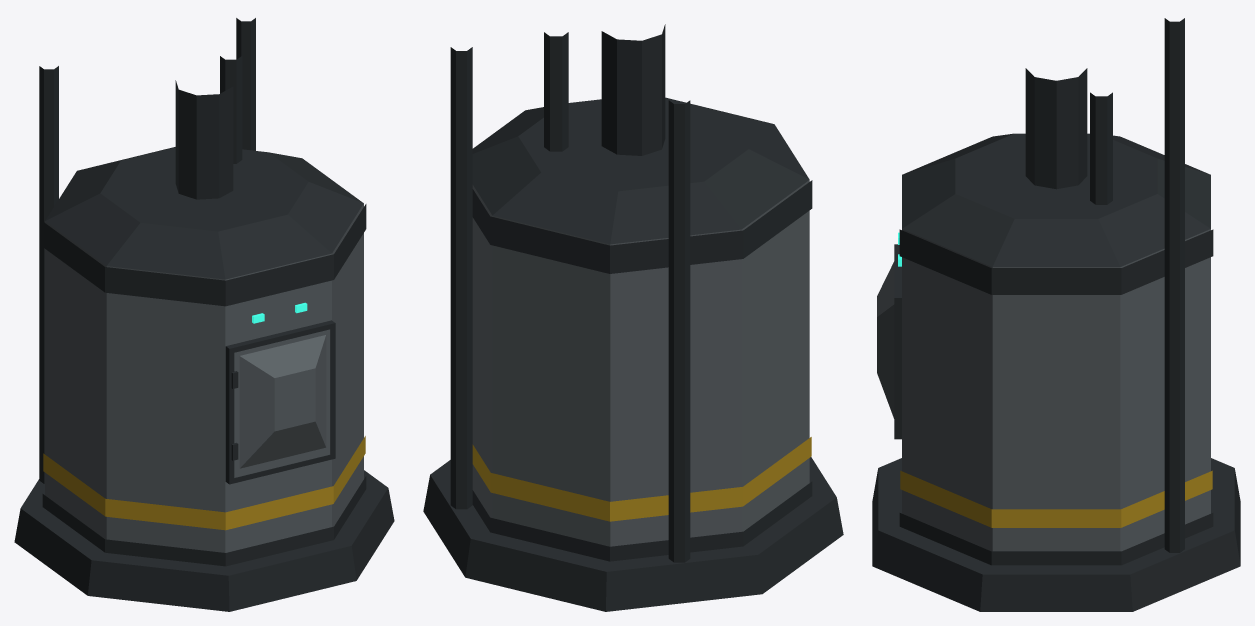
File: containment_tank.glb
3 renders of one model, left to right at view 1: azimuth 30°, elevation 25°; view 2: azimuth 150°, elevation 25°; view 3: azimuth 270°, elevation 25°, orthographic. The views are drawn at different scales.
Visible parts, largest first — view 1: body, pipes, hatch_bulge, hatch_frame, hatch_panel; view 2: body, pipes; view 3: body, pipes, hatch_bulge, hatch_frame.
Part boxes in pixels (x1,y1,x2,y2): body: (14, 147, 394, 611); pipes: (39, 18, 255, 483); hatch_bulge: (239, 335, 326, 468); hatch_frame: (225, 320, 335, 484); hatch_panel: (234, 329, 330, 477); body: (423, 97, 843, 611); pipes: (450, 24, 690, 562); body: (872, 133, 1240, 611); pipes: (1025, 18, 1184, 552); hatch_bulge: (877, 261, 894, 418); hatch_frame: (894, 244, 901, 439).
Bounding box in the file's own units: 2.86 × 4 × 2.86.
